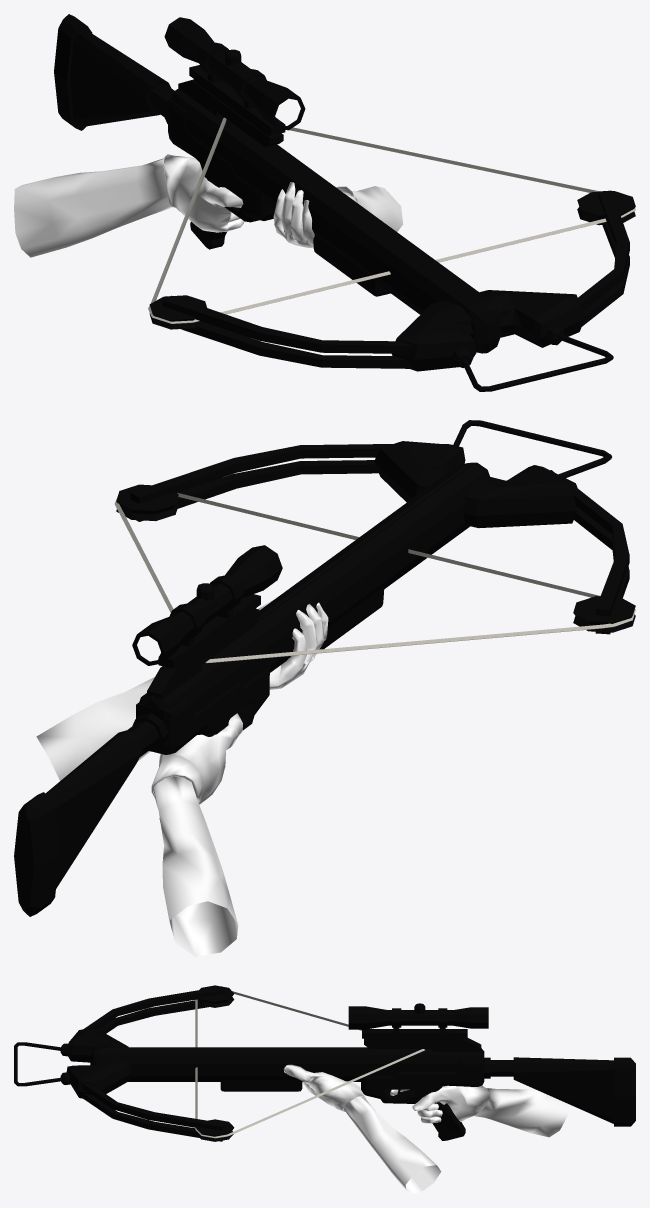
Rendered from gun13.glb.
3 views of the same model, one above another, from view 1: azimuth 30°, elevation 25°; view 2: azimuth 150°, elevation 25°; view 3: azimuth 270°, elevation 25° (orthographic). The views are drawn at different scales.
Visible parts, largest first — view 1: Crossbow, SMDImport.001, SMDImport.002, SMDImport.000, SMDImport.097; view 2: Crossbow, SMDImport.001, SMDImport.097, SMDImport.002, SMDImport.000; view 3: Crossbow, SMDImport.097, SMDImport.001, SMDImport.002, SMDImport.000.
Boxes of the visible parts, bbox=[...] form: Crossbow: bbox=[54, 14, 635, 391]; SMDImport.001: bbox=[14, 158, 172, 257]; SMDImport.002: bbox=[163, 154, 244, 232]; SMDImport.000: bbox=[273, 182, 357, 247]; SMDImport.097: bbox=[352, 186, 403, 231]; Crossbow: bbox=[14, 420, 635, 916]; SMDImport.001: bbox=[153, 776, 238, 956]; SMDImport.097: bbox=[36, 677, 154, 780]; SMDImport.002: bbox=[151, 713, 242, 804]; SMDImport.000: bbox=[258, 599, 328, 689]; Crossbow: bbox=[14, 985, 635, 1141]; SMDImport.097: bbox=[343, 1096, 441, 1193]; SMDImport.001: bbox=[474, 1087, 569, 1137]; SMDImport.002: bbox=[390, 1085, 489, 1123]; SMDImport.000: bbox=[283, 1064, 365, 1111].
Bounding box in the file's own units: 0.1345 × 0.0672 × 0.2345.
3 materials, 1 textured.
